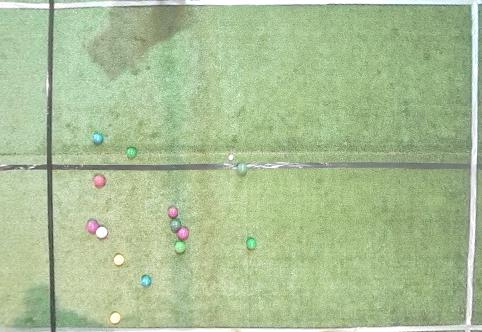blue: (141, 276, 152, 287), (93, 133, 103, 145)
green: (174, 241, 186, 253), (170, 219, 181, 231), (237, 163, 247, 176), (246, 238, 257, 249), (127, 147, 137, 159)
red: (94, 174, 106, 187), (87, 220, 99, 233), (96, 226, 108, 238), (178, 228, 189, 240), (168, 207, 178, 218)
vline: (1, 1, 58, 331), (462, 1, 481, 331)
white: (228, 155, 234, 160)
yellow: (109, 312, 121, 323), (114, 254, 124, 265)
